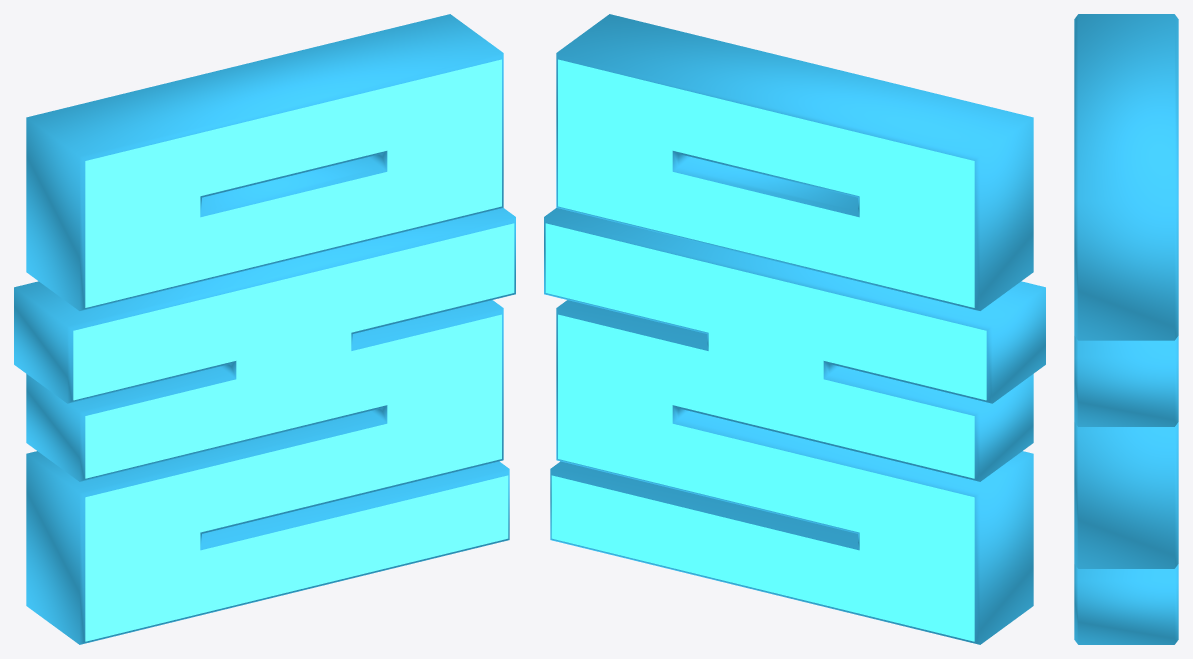
3 renders of one model, left to right at view 1: azimuth 30°, elevation 25°; view 2: azimuth 150°, elevation 25°; view 3: azimuth 270°, elevation 25°, orthographic. The views are drawn at different scales.
Visible parts, largest first — view 1: glyph; view 2: glyph; view 3: glyph.
Boxes of the visible parts, box(x1,y1,x2,y2) form: glyph: box(14, 14, 515, 644); glyph: box(544, 14, 1045, 644); glyph: box(1074, 14, 1178, 644).
Bounding box in the file's own units: 0.0728 × 0.0758 × 0.0162.
